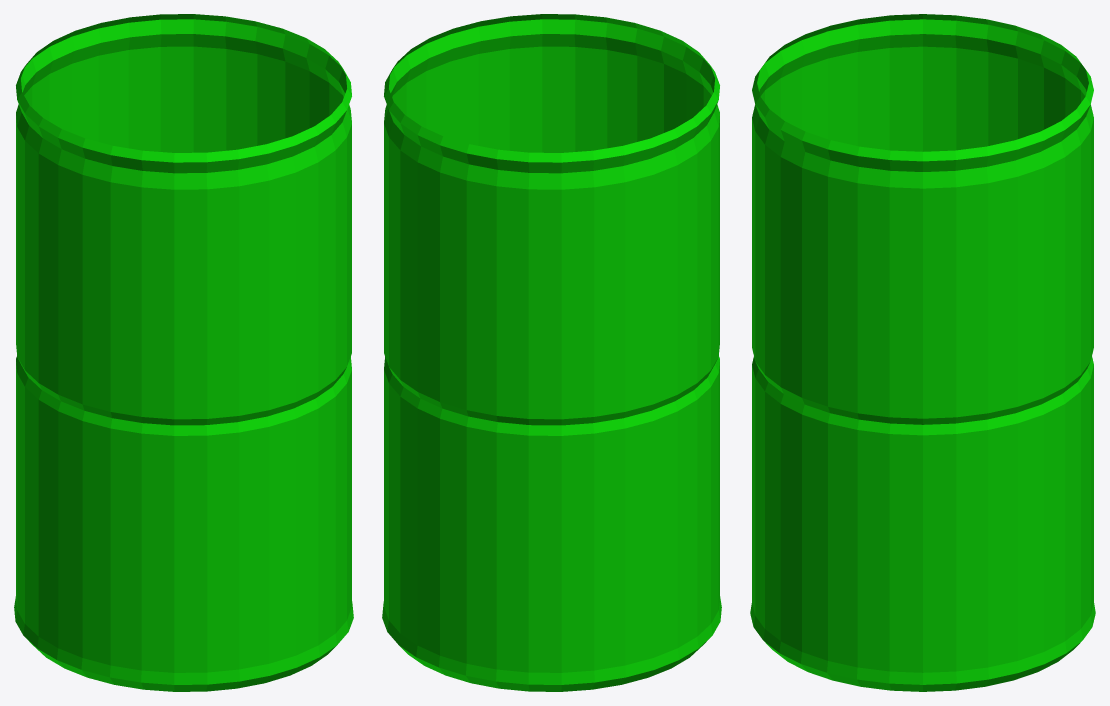
The model's file is cuboverde.glb.
3 views of the same model, side by side, from view 1: azimuth 30°, elevation 25°; view 2: azimuth 150°, elevation 25°; view 3: azimuth 270°, elevation 25° (orthographic).
Visible parts, largest first — view 1: Cylinder.001; view 2: Cylinder.001; view 3: Cylinder.001.
Part boxes in pixels (x1,y1,x2,y2): Cylinder.001: [14, 14, 353, 691]; Cylinder.001: [382, 14, 721, 691]; Cylinder.001: [750, 14, 1095, 691].
Size of the model in its own units: 1.81 by 3.18 by 1.84.
